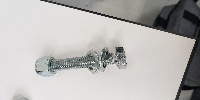FinishedAssembly: (31, 43, 135, 84)
